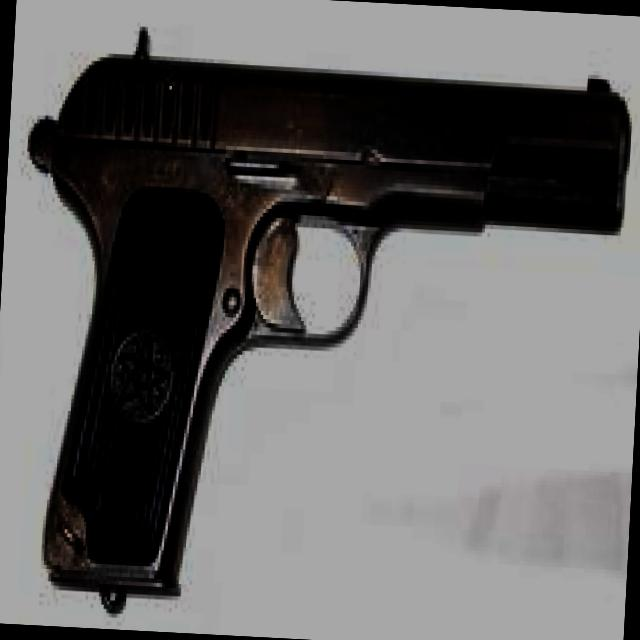semi automatic: (20, 16, 640, 633)
